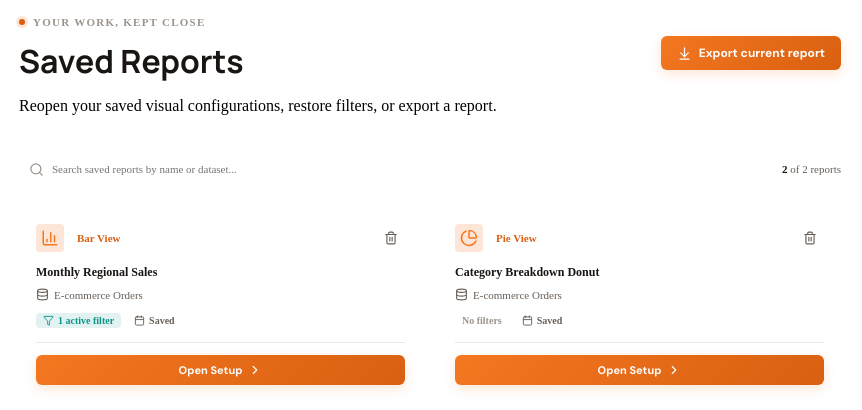
Test case: SavedReportsPage component › filters reports via search input
Type "Regional" into the field labelled "Search saved reports by name or dataset..." at (209, 169), box [19, 151, 399, 187]
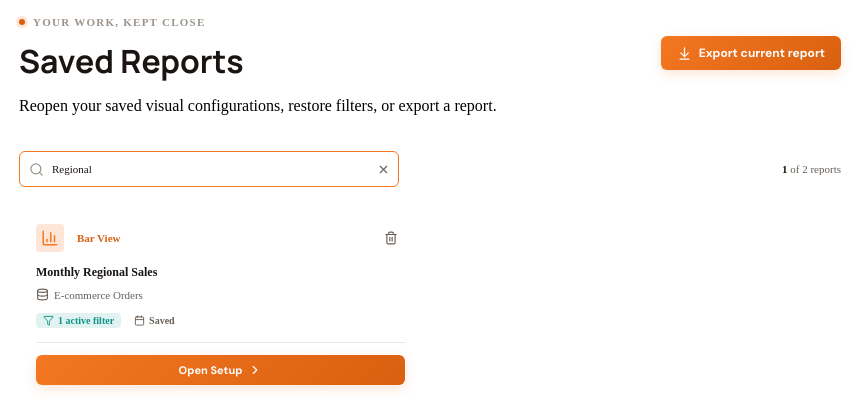
Expected: the heading "Monthly Regional Sales" is shown, [36, 265, 157, 279]
Expected: the heading "Category Breakdown Donut" is gone
